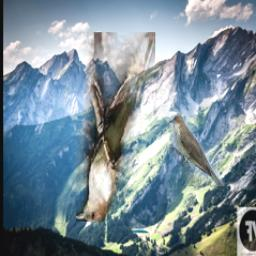Cuckoo: (76, 33, 155, 223), (169, 115, 225, 187)
